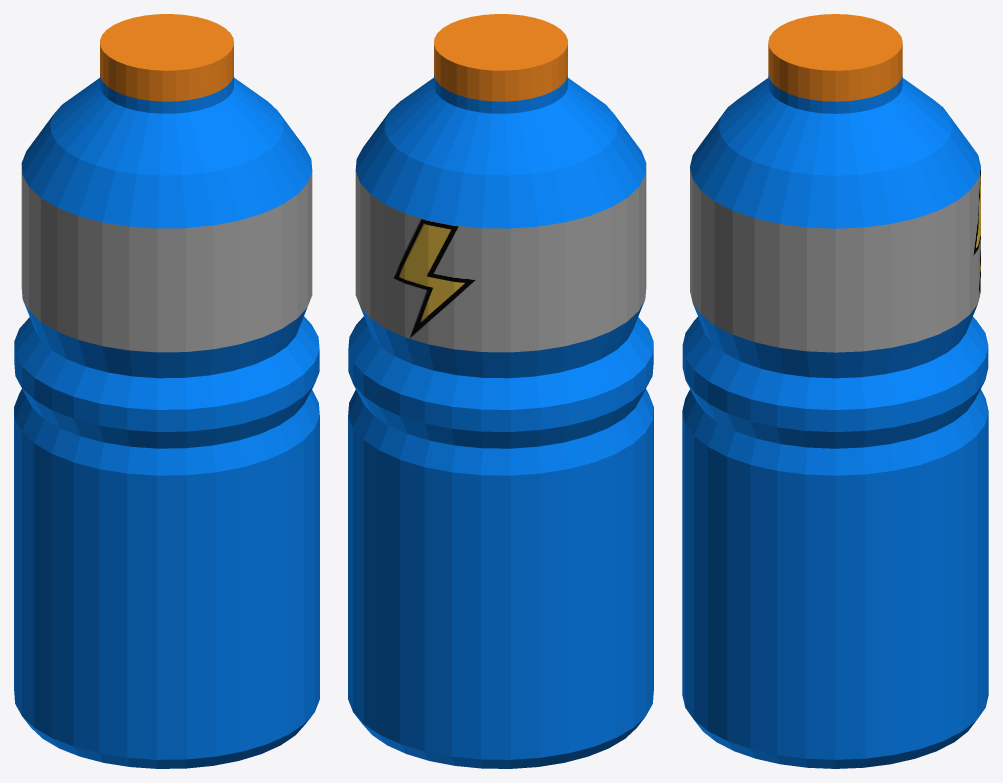
The model's file is energy_drink.fbx.
3 views of the same model, side by side, from view 1: azimuth 30°, elevation 25°; view 2: azimuth 150°, elevation 25°; view 3: azimuth 270°, elevation 25° (orthographic).
Visible parts, largest first — view 1: Bottle.001; view 2: Bottle.001; view 3: Bottle.001.
Boxes of the visible parts, left/top/right/bottom form: Bottle.001: left=14, top=14, right=319, bottom=768; Bottle.001: left=348, top=14, right=653, bottom=768; Bottle.001: left=682, top=14, right=988, bottom=768.
Size of the model in its own units: 32.27 by 77.41 by 32.27.
4 materials, 1 textured.
